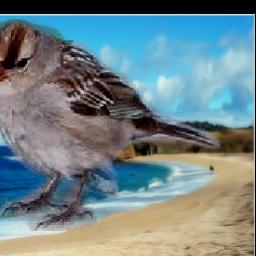Sparrow: (0, 20, 219, 232)
